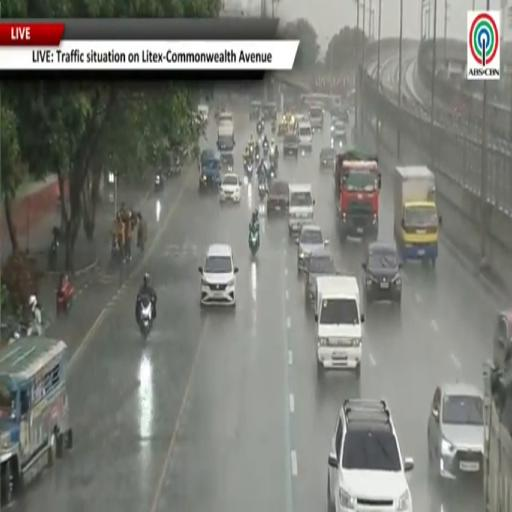car: (327, 399, 413, 511), (428, 382, 484, 482), (362, 242, 402, 305), (199, 244, 238, 307), (304, 247, 336, 309), (297, 224, 328, 271), (493, 311, 511, 367), (267, 180, 288, 216), (220, 173, 241, 202), (283, 133, 299, 157), (320, 148, 336, 169), (331, 134, 348, 152), (331, 106, 349, 123), (262, 103, 276, 121), (221, 152, 233, 173), (249, 101, 261, 120), (331, 119, 345, 134), (198, 104, 209, 123)
jeepney: (0, 338, 72, 508)
motorcycle: (56, 281, 74, 315), (138, 297, 152, 339), (48, 237, 59, 271), (111, 238, 124, 264), (249, 226, 259, 255), (258, 182, 268, 200), (245, 160, 253, 181), (154, 173, 163, 191), (267, 165, 276, 183), (248, 143, 255, 158), (257, 122, 264, 136), (263, 142, 269, 157), (271, 121, 276, 134), (255, 152, 260, 165)
truck: (394, 166, 441, 266), (334, 150, 381, 241), (483, 362, 511, 511), (199, 150, 220, 193), (217, 120, 235, 152)
